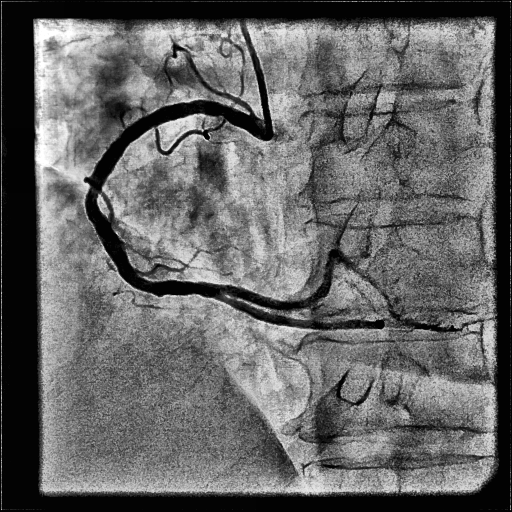pborca: (226, 250, 400, 321)
pda: (223, 297, 384, 330)
rca: (85, 100, 256, 302)
